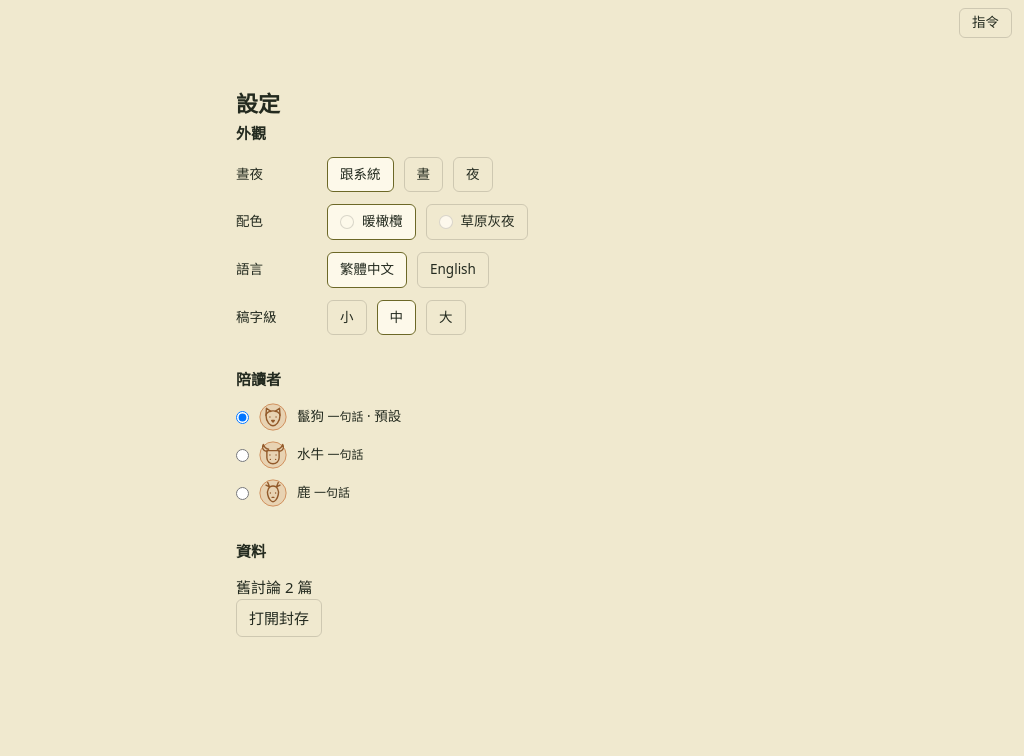
設定頁 › 舊討論:只數 legacy 局,打開封存看得到逐字,沒有輸入框
The image size is (1024, 756).
Check: the text "舊討論 2 篇" is shown, box [236, 577, 312, 597]
Click the button "打開封存" at (279, 618), box [236, 599, 322, 637]
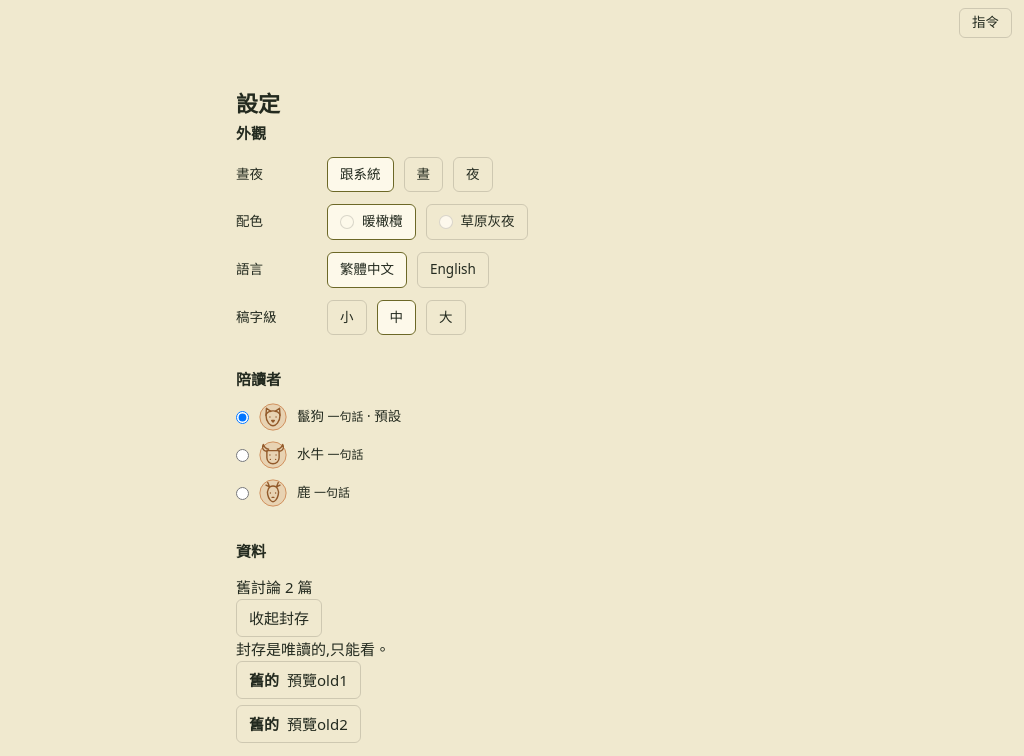
Check: the text "預覽old1" is shown, box [287, 668, 348, 692]
Check: the text "預覽old2" is shown, box [287, 712, 348, 736]
Click the button "舊的 預覽old1" at (298, 680), box [236, 661, 361, 699]
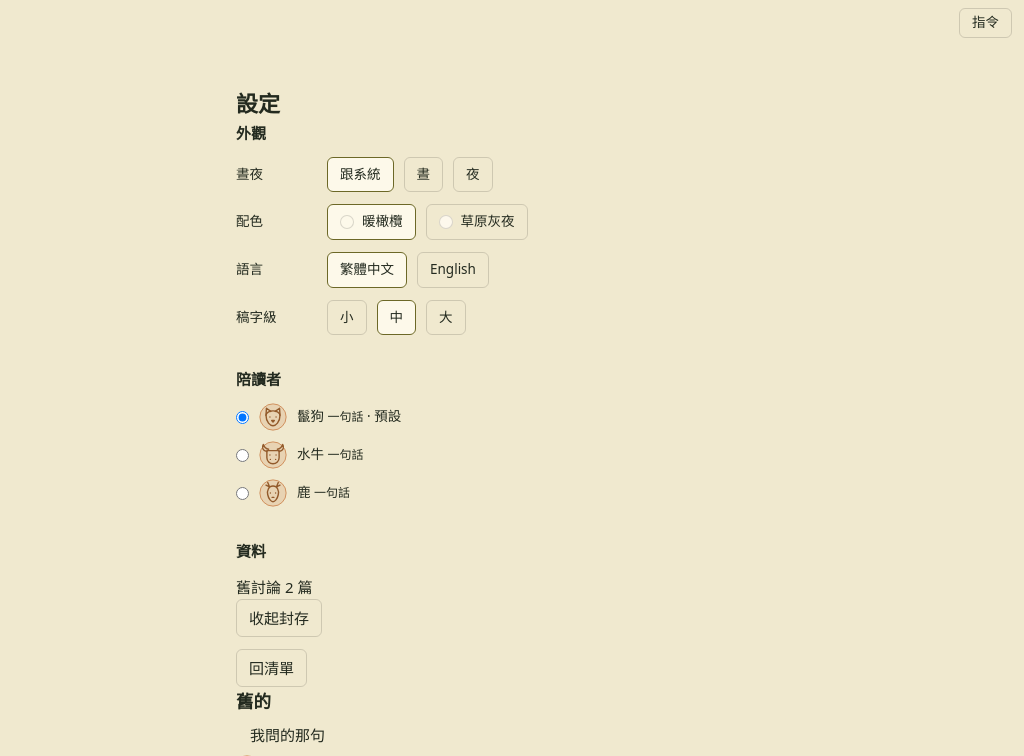
Check: the text "我問的那句" is shown, box [250, 725, 325, 745]
Click the button "回清單" at (272, 668), box [236, 649, 307, 687]
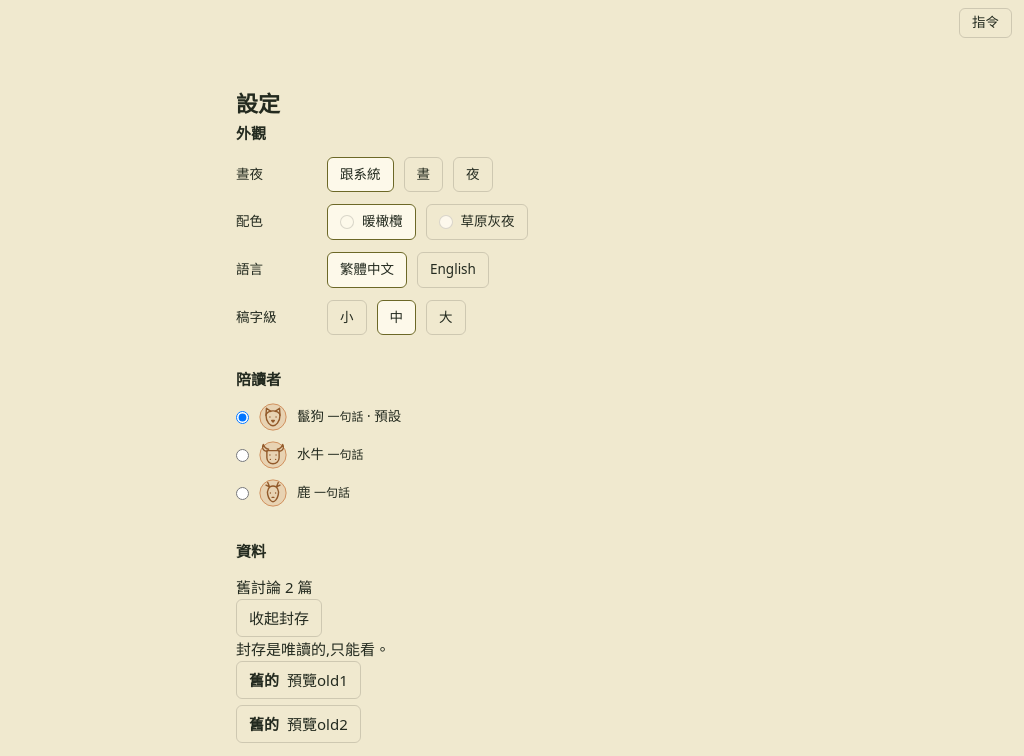
Check: the text "預覽old2" is shown, box [287, 712, 348, 736]
